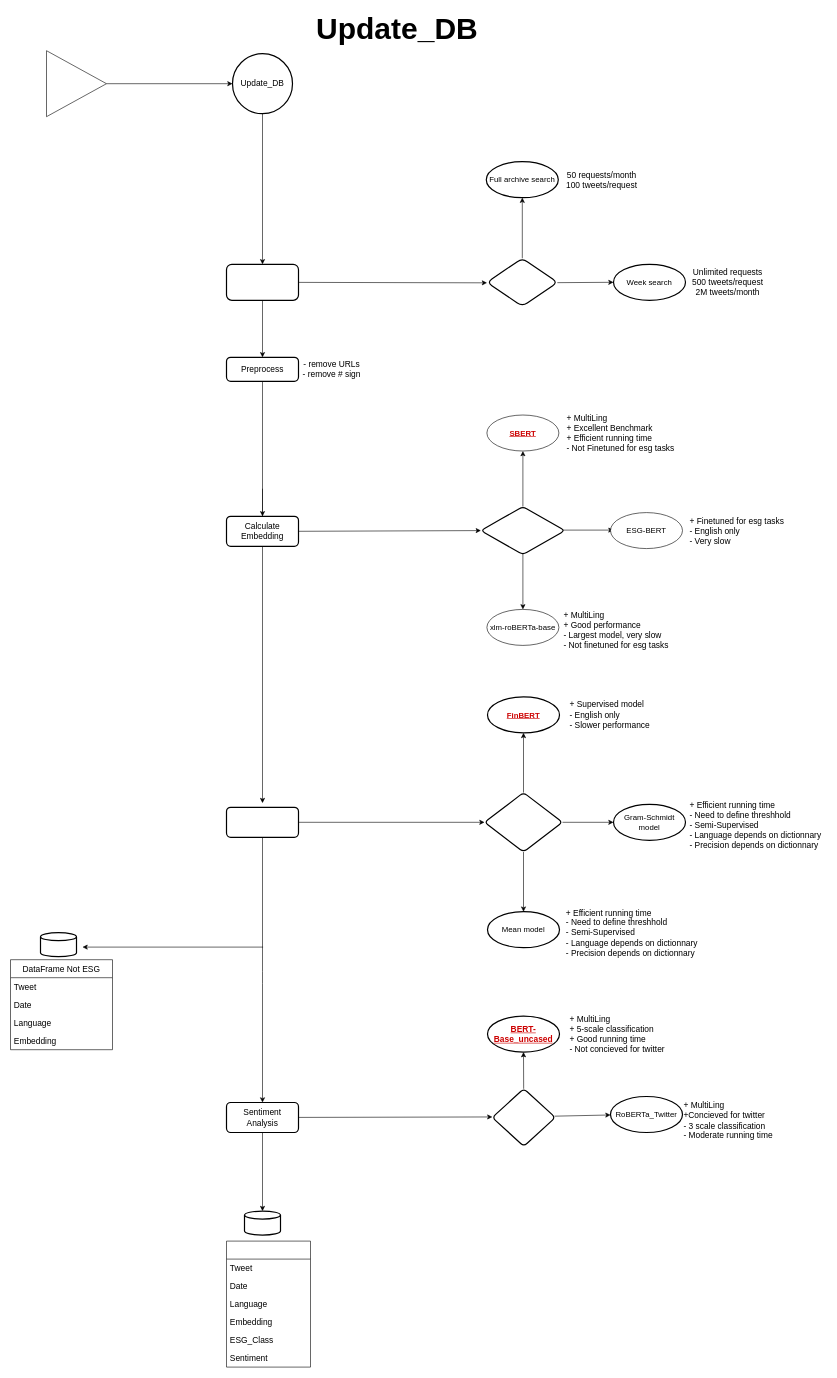
Image size: 837x1378. Some labels were removed from this diagram. Here are the shapes that lost their labels. From the top down, the box of each, then its label:
(46, 50, 106, 117): Company Language
(226, 263, 299, 301): Scrap new tweets
(486, 257, 558, 307): Scraper
(480, 506, 565, 555): Embedder
(226, 806, 299, 838): E, S, G or NOT
(484, 792, 563, 852): ESG_Filter
(491, 1088, 556, 1147): Sent_model
(226, 1240, 310, 1367): DataFrame ESG
